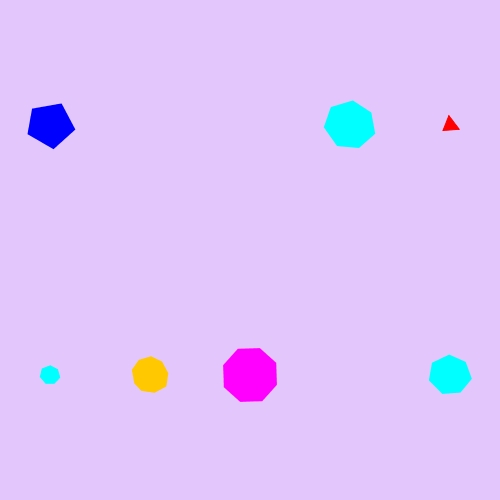heptagon: (322, 98, 379, 153), (426, 352, 475, 399), (36, 361, 65, 389)
nonagon: (128, 354, 173, 397)
octagon: (218, 343, 282, 407)
pentagon: (24, 99, 77, 152)
triangle: (438, 112, 463, 138)
